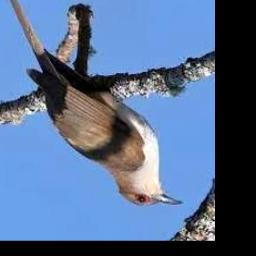Cuckoo: (3, 0, 183, 207)
